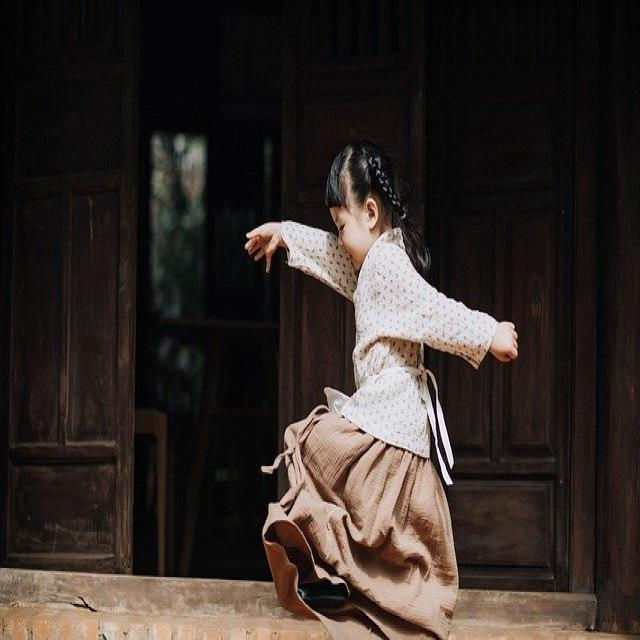child: (244, 137, 520, 640)
